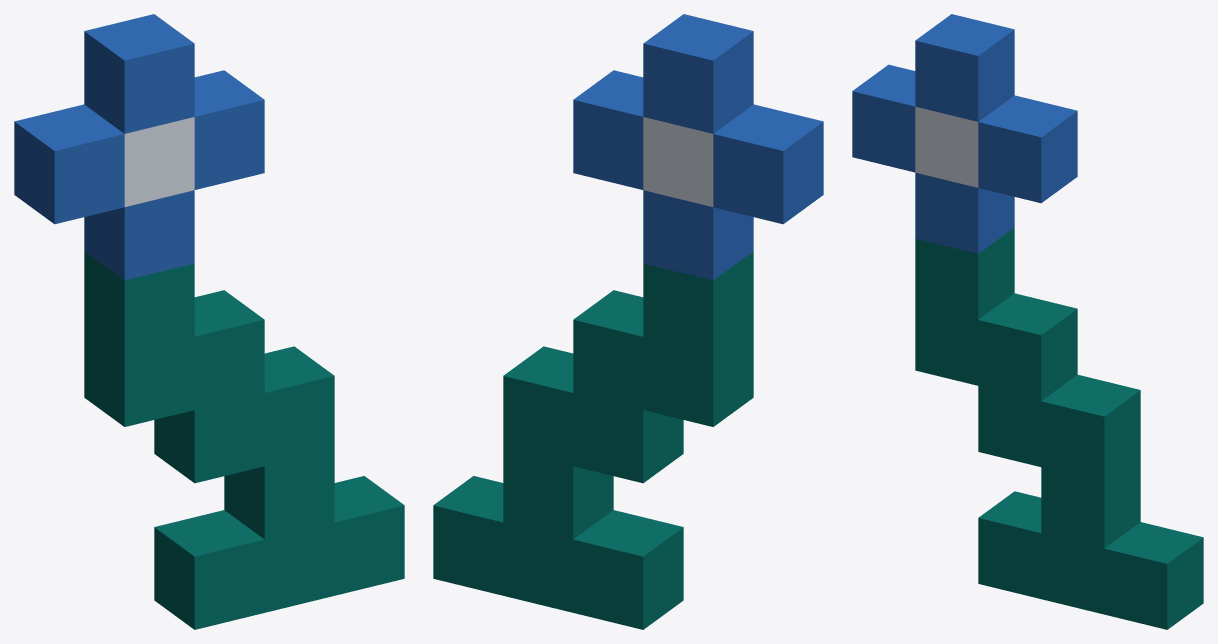
File: flower-02.obj
3 views of the same model, side by side, from view 1: azimuth 30°, elevation 25°; view 2: azimuth 150°, elevation 25°; view 3: azimuth 330°, elevation 25° (orthographic). The views are drawn at different scales.
Size of the model in its own units: 5 by 8 by 1.
Materials: 1 (1 with a texture image).
